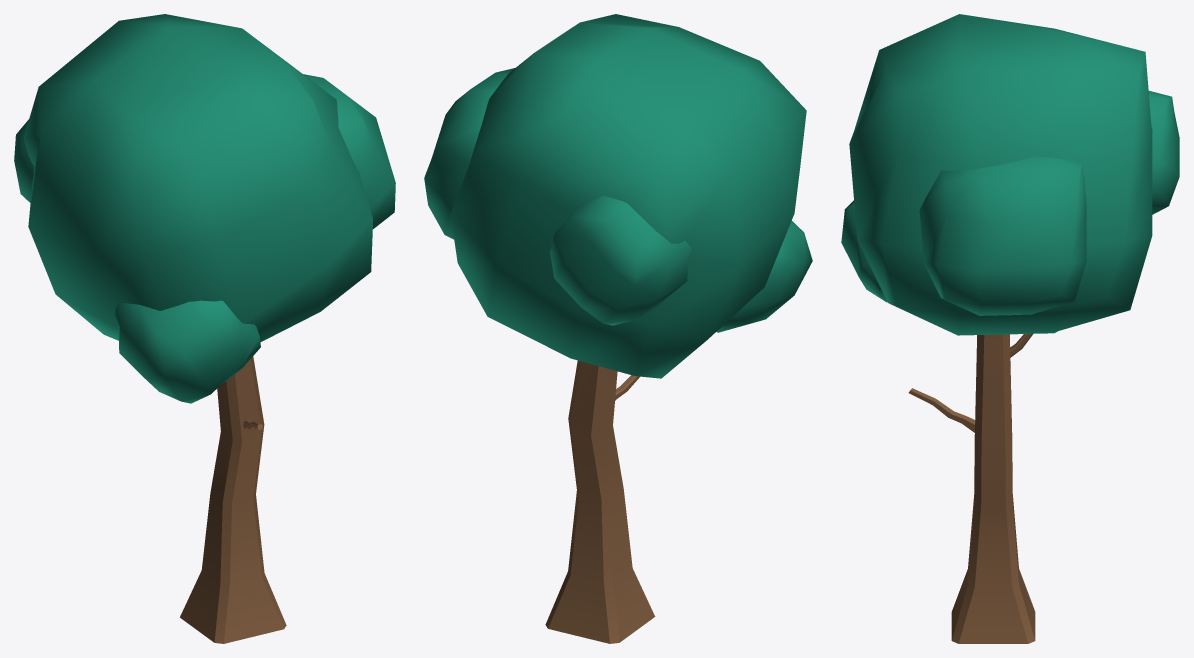
The model's file is Tree.fbx.
3 renders of one model, left to right at view 1: azimuth 30°, elevation 25°; view 2: azimuth 150°, elevation 25°; view 3: azimuth 270°, elevation 25°, orthographic. The views are drawn at different scales.
Parts seen in each view (by area): view 1: Tree; view 2: Tree; view 3: Tree.
Part boxes in pixels (left/top/right/bottom): Tree: left=14, top=14, right=395, bottom=643; Tree: left=424, top=14, right=812, bottom=643; Tree: left=841, top=14, right=1179, bottom=643.
Size of the model in its own units: 200 by 347 by 184.
